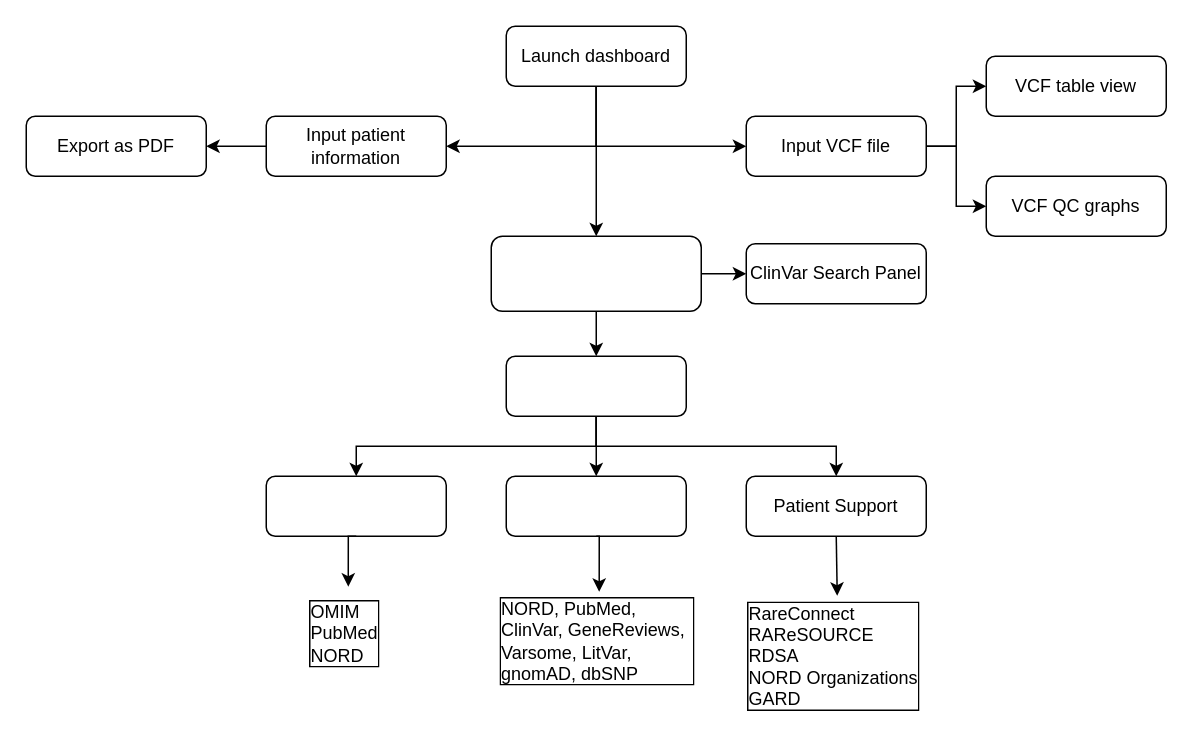
This 1193x743 diagram has some shape labels left out. Here are the shapes that lost their labels. From the top down, the centre of each, then its label:
point 595,273: Automatic download of ClinVar variant summary file
point 595,385: Diagnostic Report
point 355,505: Disorder Information
point 595,505: Clinician and Researcher Support
